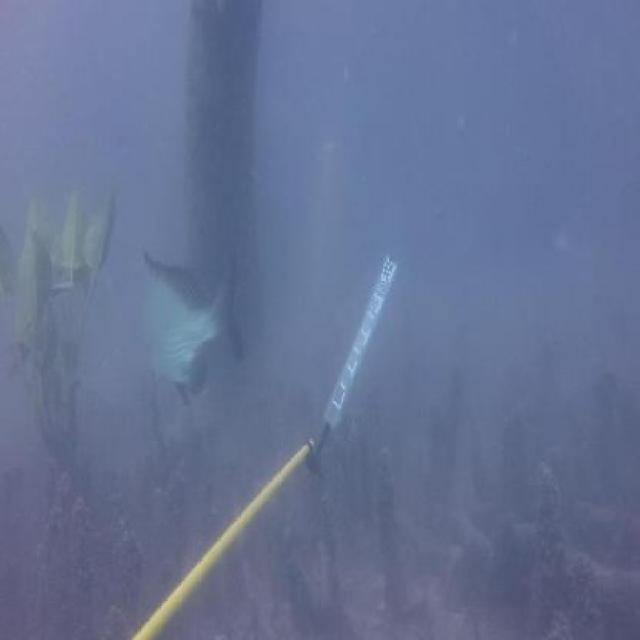acanthopagrus_palmaris: (138, 220, 258, 406)
